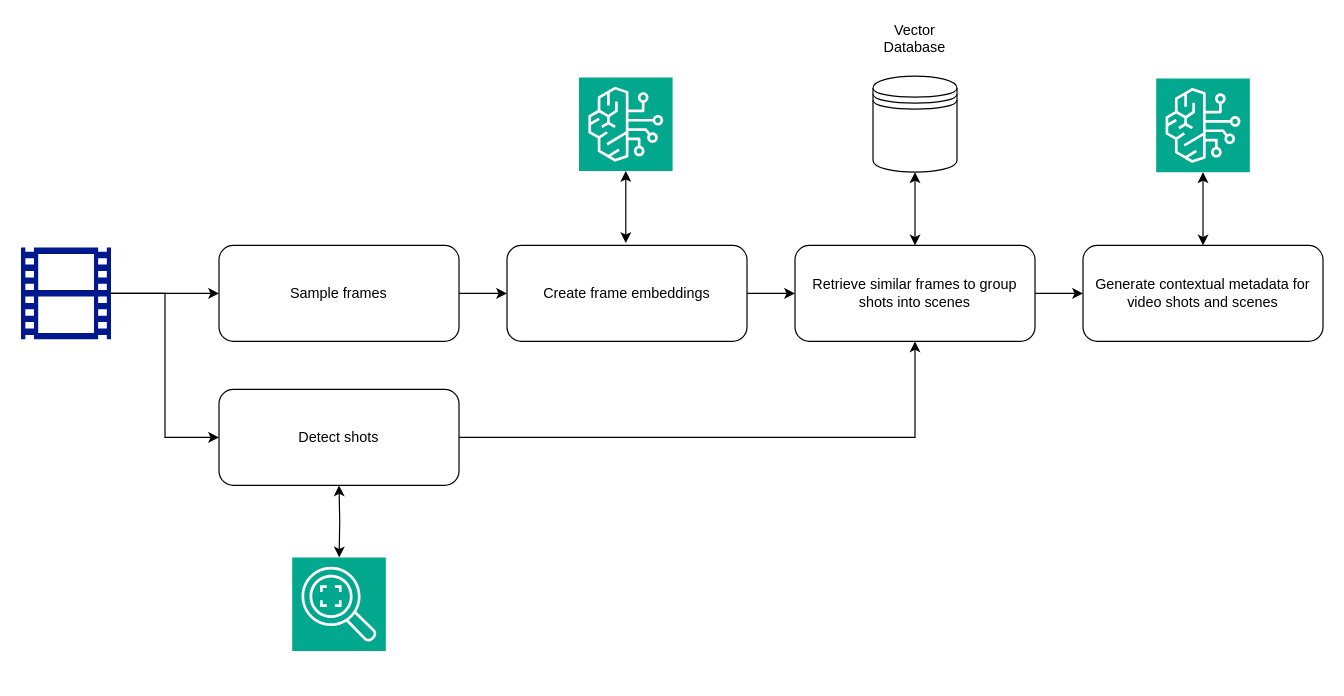
Image size: 1344x696. Some labels were removed from this diagram. Each missing label, with the box of its shape:
Amazon Bedrock Embedding Model: (578, 76, 673, 171)
Amazon Bedrock Multimodal Model: (1155, 77, 1250, 172)
Amazon Rekognition: (291, 556, 386, 651)
